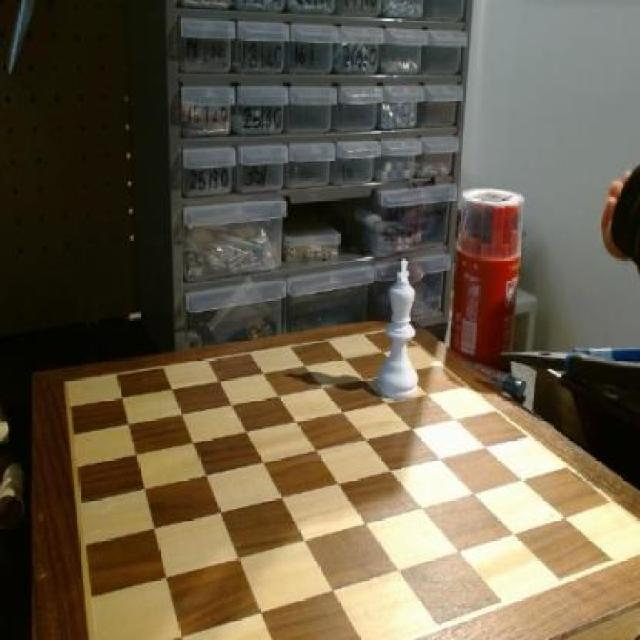white-bishop: (376, 260, 430, 402)
